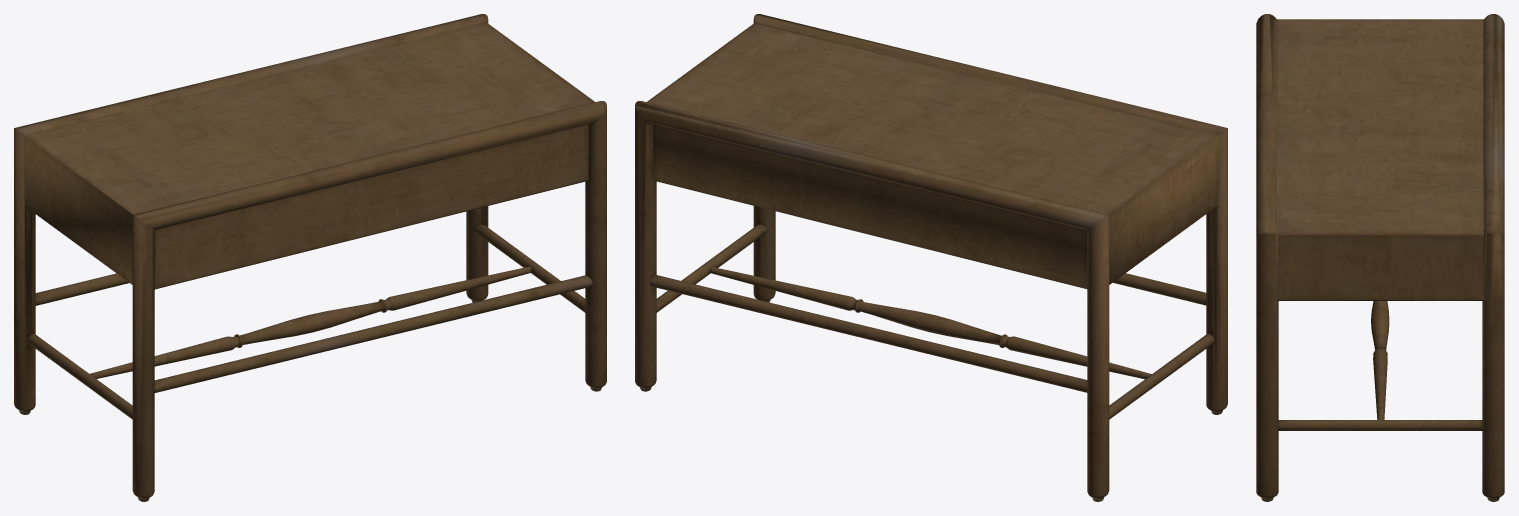
File: m_small_wooden_table_01.glb
3 renders of one model, left to right at view 1: azimuth 30°, elevation 25°; view 2: azimuth 150°, elevation 25°; view 3: azimuth 270°, elevation 25°, orthographic. The views are drawn at different scales.
Visible parts, largest first — view 1: small_wooden_table_01; view 2: small_wooden_table_01; view 3: small_wooden_table_01.
Part boxes in pixels (x1,y1,x2,y2): small_wooden_table_01: (14, 14, 606, 501); small_wooden_table_01: (635, 14, 1227, 501); small_wooden_table_01: (1256, 14, 1504, 501).
Size of the model in its own units: 0.9162 by 0.5331 by 0.4399.
Materials: 1 (1 with a texture image).
